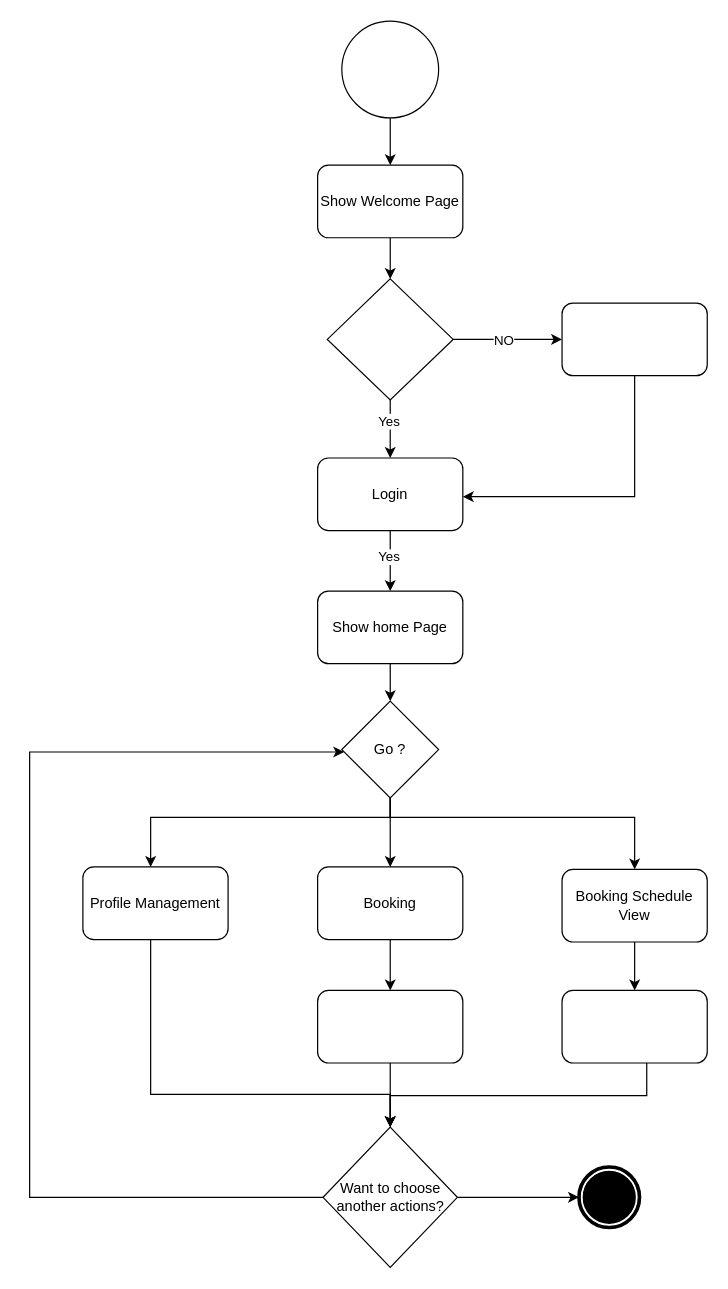
Some shapes in this 728 by 1289 pixel diagram are drawn without their labels. The box of each missing label's shape, as (x1, y1, x2, y2) in pixels:
Have Account yet?: (326, 278, 453, 400)
Payment: (316, 989, 463, 1063)
Refund: (561, 989, 707, 1063)
Sign Up: (561, 302, 707, 376)
